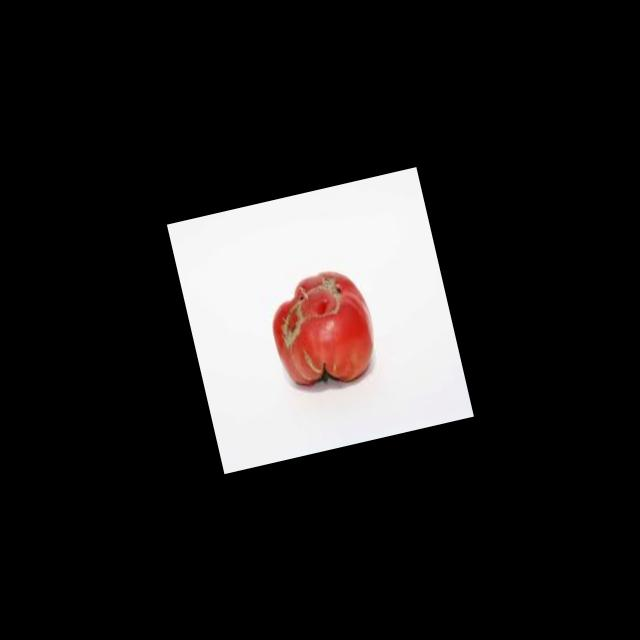tomato: (254, 257, 394, 408)
